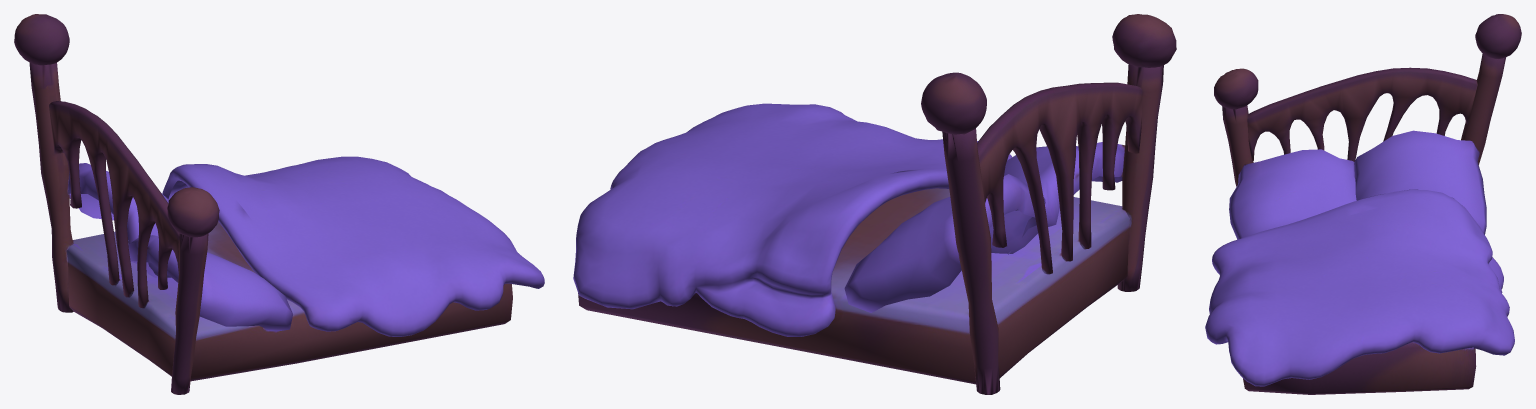
The model's file is seng_sove.fbx.
3 renders of one model, left to right at view 1: azimuth 30°, elevation 25°; view 2: azimuth 150°, elevation 25°; view 3: azimuth 270°, elevation 25°, orthographic. The views are drawn at different scales.
Parts seen in each view (by area): view 1: seng_sove; view 2: seng_sove; view 3: seng_sove.
Part boxes in pixels (left/top/right/bottom): seng_sove: left=14, top=14, right=544, bottom=394; seng_sove: left=573, top=14, right=1176, bottom=394; seng_sove: left=1205, top=14, right=1521, bottom=394.
Bounding box in the file's own units: 4.05 × 2.82 × 3.36.
1 material, 1 textured.
